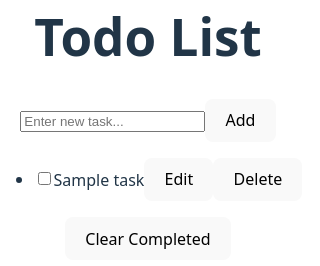
Test: после нажатия "Delete" задача удаляется из списка
This screenshot has width=320, height=266.
Click the button "Delete" at x=258, y=180, box [213,158,302,201]
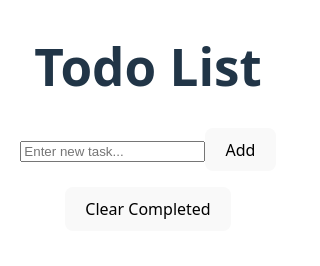
Now the text "Sample task" is gone
